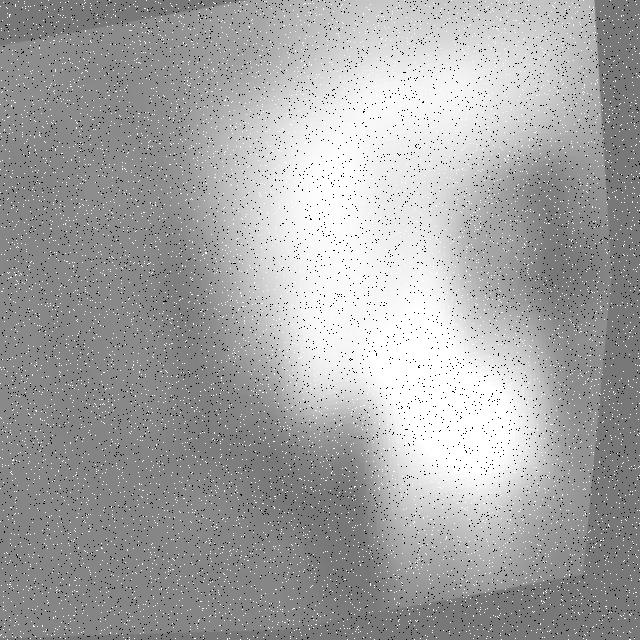person: (114, 1, 640, 637)
